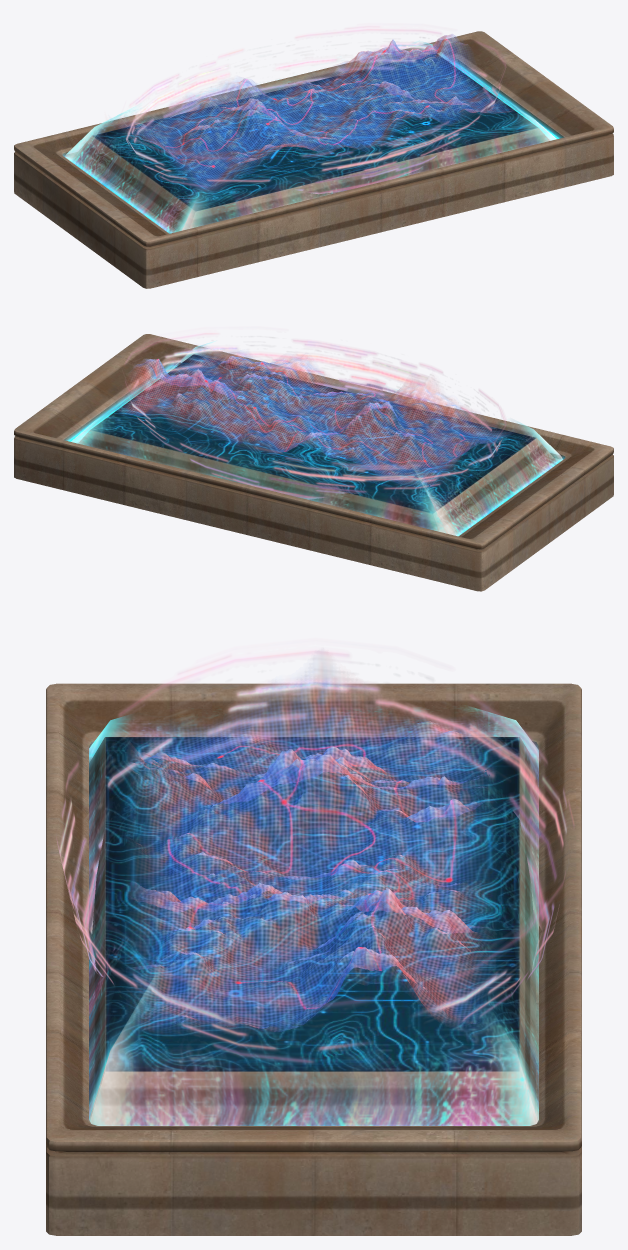
Rendered from xi_dsp_holographic_table.gltf.
The picture shows the model from 3 angles, top to bottom: view 1: azimuth 30°, elevation 25°; view 2: azimuth 150°, elevation 25°; view 3: azimuth 270°, elevation 25°; orthographic projection. The views are drawn at different scales.
Parts seen in each view (by area): view 1: xi_dsp_holographic_table; view 2: xi_dsp_holographic_table; view 3: xi_dsp_holographic_table.
Part boxes in pixels (bbox=[...]): xi_dsp_holographic_table: bbox=[14, 26, 613, 288]; xi_dsp_holographic_table: bbox=[14, 333, 613, 591]; xi_dsp_holographic_table: bbox=[46, 649, 581, 1235].
Size of the model in its own units: 8.31 by 1.81 by 4.1.
2 materials, 2 textured.
